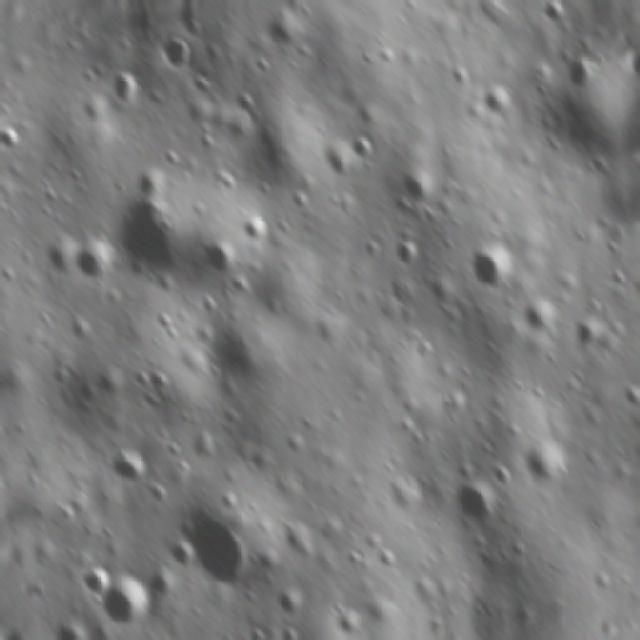crater: (177, 488, 266, 598), (104, 188, 198, 287), (96, 566, 162, 640), (468, 238, 520, 300), (519, 434, 573, 492), (452, 477, 506, 529), (67, 232, 119, 286), (101, 442, 152, 495), (517, 291, 563, 340), (398, 161, 444, 210), (201, 233, 242, 282), (47, 604, 100, 640), (154, 34, 197, 77), (569, 310, 608, 356), (103, 61, 142, 107), (272, 582, 310, 624), (560, 52, 598, 93), (165, 533, 202, 575), (329, 604, 366, 640), (347, 128, 379, 167), (534, 0, 567, 35), (239, 213, 272, 247), (392, 238, 425, 272), (82, 560, 113, 595), (0, 122, 25, 155), (0, 151, 11, 198), (12, 435, 26, 467), (339, 632, 375, 640), (558, 0, 600, 3), (431, 0, 462, 3), (479, 0, 512, 2)
